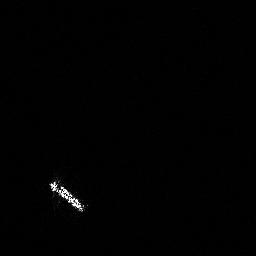ship: (46, 175, 89, 215)
